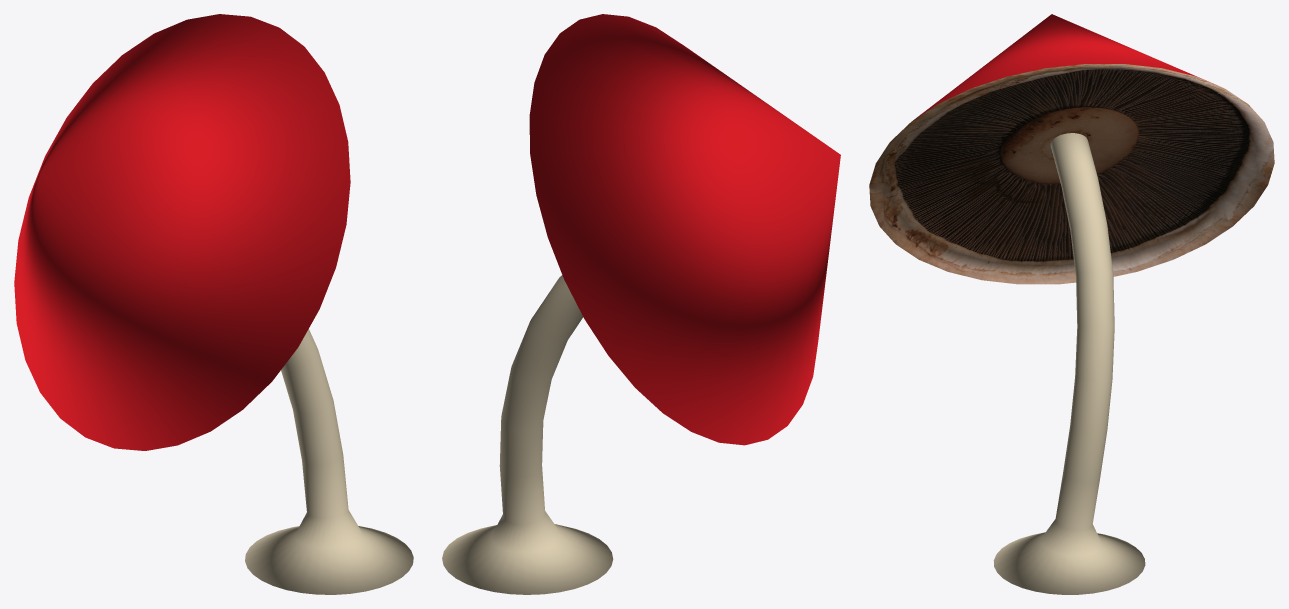
The model's file is champi42.fbx.
The picture shows the model from 3 angles, left to right: view 1: azimuth 30°, elevation 25°; view 2: azimuth 150°, elevation 25°; view 3: azimuth 270°, elevation 25°; orthographic projection. The views are drawn at different scales.
Visible parts, largest first — view 1: Cylinder_001; view 2: Cylinder_001; view 3: Cylinder_001.
Boxes of the visible parts, box(x1,y1,x2,y2) form: Cylinder_001: box(14, 14, 413, 594); Cylinder_001: box(442, 14, 840, 594); Cylinder_001: box(869, 14, 1274, 594).
Size of the model in its own units: 102 by 140 by 107.
